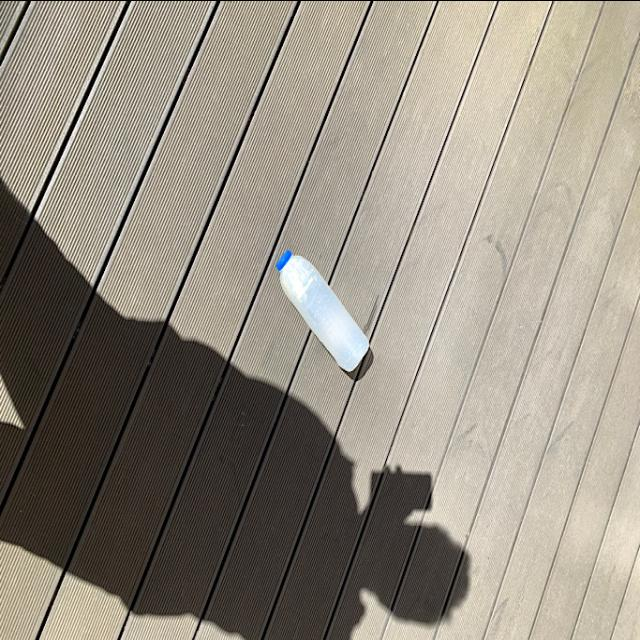HDPEM: (274, 248, 370, 374)
